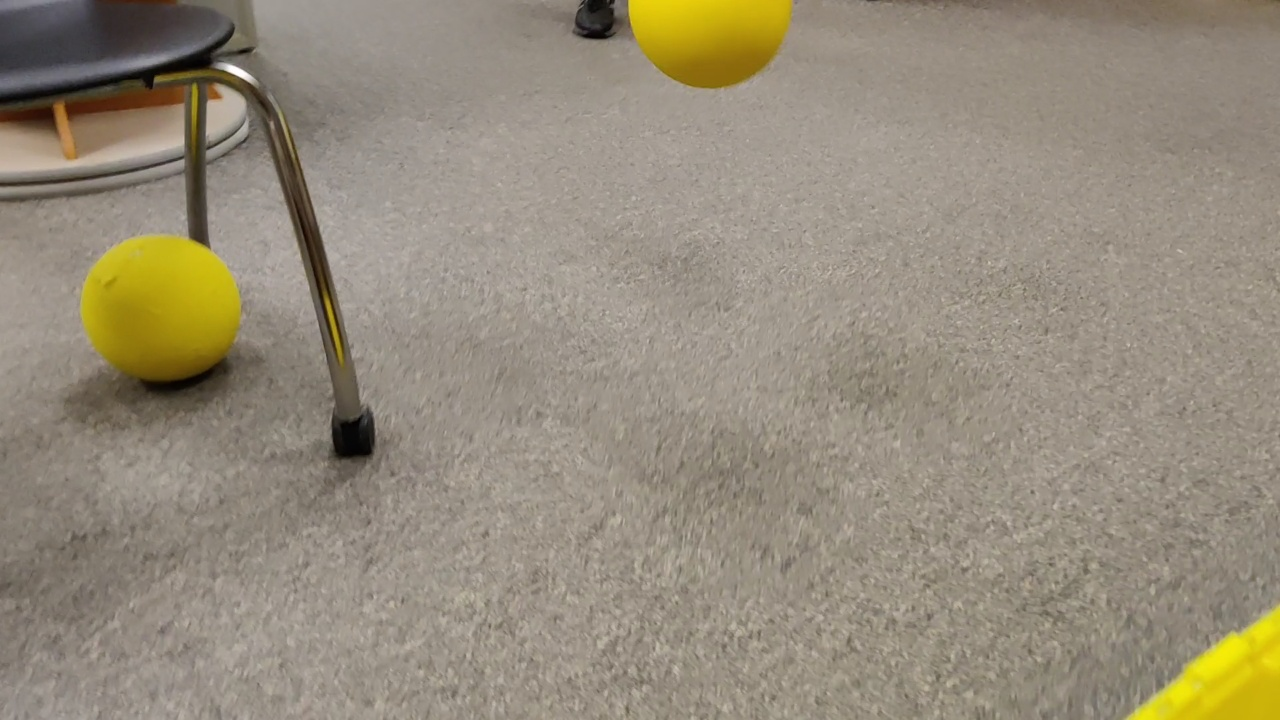Ball: (83, 236, 241, 381), (628, 1, 791, 89)
